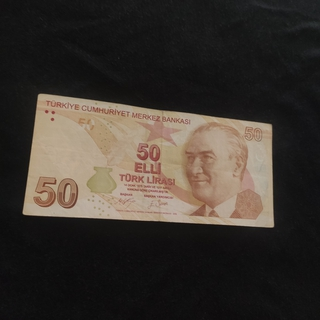50TLFront: (22, 92, 275, 227)
